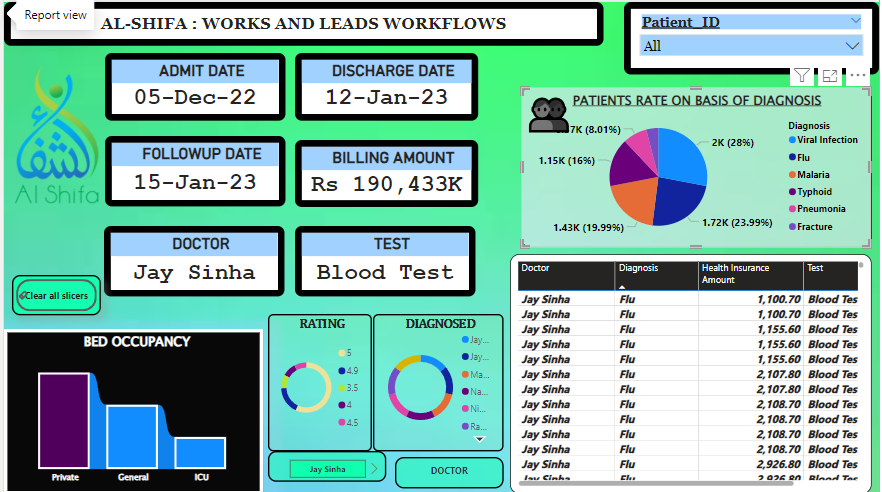

This screenshot's page, from the dashboard's own definition file:
{"tool":"powerbi","page":{"name":"Page 1","canvas":[1280,720],"ordinal":0},"visuals":[{"type":"image","box":[0,86.5,153.1,212.6],"z":0},{"type":"textbox","box":[0,0,876.9,63.8],"z":1000},{"type":"slicer","fields":{"Values":["Sheet1.Patient_ID"]},"box":[907.1,0,372.9,105.8],"z":2000},{"type":"card","title":"ADMIT DATE","fields":{"Values":["Sheet1.Admit_Date"]},"box":[147.4,75.1,263.6,99.2],"z":3000},{"type":"card","title":"DISCHARGE DATE","fields":{"Values":["Sheet1.Discharge_Date"]},"box":[425.2,75.1,267.9,99.2],"z":4000},{"type":"card","title":"FOLLOWUP DATE","fields":{"Values":["Sheet1.Followup Date"]},"box":[147.4,195.6,263.6,103.5],"z":5000},{"type":"card","title":"BILLING AMOUNT","fields":{"Values":["Sheet1.Billing Amount"]},"box":[425.2,201.3,267.9,97.8],"z":6000},{"type":"columnChart","title":"BED OCCUPANCY ","fields":{"Category":["Sheet1.Bed_Occupancy"],"Y":["Sheet1.Bed_Occupancy"]},"box":[0,478,379,242],"z":7000},{"type":"tableEx","fields":{"Values":["Sheet1.Doctor","Sheet1.Diagnosis","Sheet1.Health Insurance Amount","Sheet1.Test","Sheet1.Feedback"]},"box":[740,369,529,351],"z":8000},{"type":"pieChart","title":"PATIENTS RATE ON BASIS OF DIAGNOSIS","fields":{"Category":["Sheet1.Diagnosis"],"Y":["Sheet1.Patient_ID"]},"box":[756,125,513,235],"z":9000},{"type":"card","title":"DOCTOR","fields":{"Values":["Sheet1.Doctor"]},"box":[147,327,264,103],"z":10000},{"type":"card","title":"TEST ","fields":{"Values":["Sheet1.Test"]},"box":[425,327,264,103],"z":11000},{"type":"donutChart","title":"RATING","fields":{"Y":["Sheet1.Doctor"],"Category":["Sheet1.Feedback"]},"box":[386,457,152,201],"z":12000},{"type":"donutChart","title":"DIAGNOSED","fields":{"Y":["Sheet1.Patient_ID"],"Category":["Sheet1.Doctor"]},"box":[540,457,191,201],"z":13000},{"type":"slicer","fields":{"Values":["Sheet1.Doctor"]},"box":[386.2,656.8,172.6,45.3],"z":14000},{"type":"textbox","box":[572,665,159,46],"z":15000},{"type":"textbox","title":"👥","box":[756,125,121,90],"z":15001},{"type":"actionButton","box":[12,400,130,59],"z":15002}]}

Visuals, with their boxes on the page's 1280x720 design canvas (x1, y1, x2, y2). These are canvas units, not pixel positions in the 882x492 screenshot, which may show the page scaled, cropped or inside an application window:
image: rect(0, 86, 153, 299)
textbox: rect(0, 0, 877, 64)
slicer - Sheet1.Patient_ID: rect(907, 0, 1280, 106)
"ADMIT DATE" card: rect(147, 75, 411, 174)
"DISCHARGE DATE" card: rect(425, 75, 693, 174)
"FOLLOWUP DATE" card: rect(147, 196, 411, 299)
"BILLING AMOUNT" card: rect(425, 201, 693, 299)
"BED OCCUPANCY " columnChart: rect(0, 478, 379, 720)
tableEx - Sheet1.Doctor x Sheet1.Diagnosis: rect(740, 369, 1269, 720)
"PATIENTS RATE ON BASIS OF DIAGNOSIS" pieChart: rect(756, 125, 1269, 360)
"DOCTOR" card: rect(147, 327, 411, 430)
"TEST " card: rect(425, 327, 689, 430)
"RATING" donutChart: rect(386, 457, 538, 658)
"DIAGNOSED" donutChart: rect(540, 457, 731, 658)
slicer - Sheet1.Doctor: rect(386, 657, 559, 702)
textbox: rect(572, 665, 731, 711)
"👥" textbox: rect(756, 125, 877, 215)
actionButton: rect(12, 400, 142, 459)
